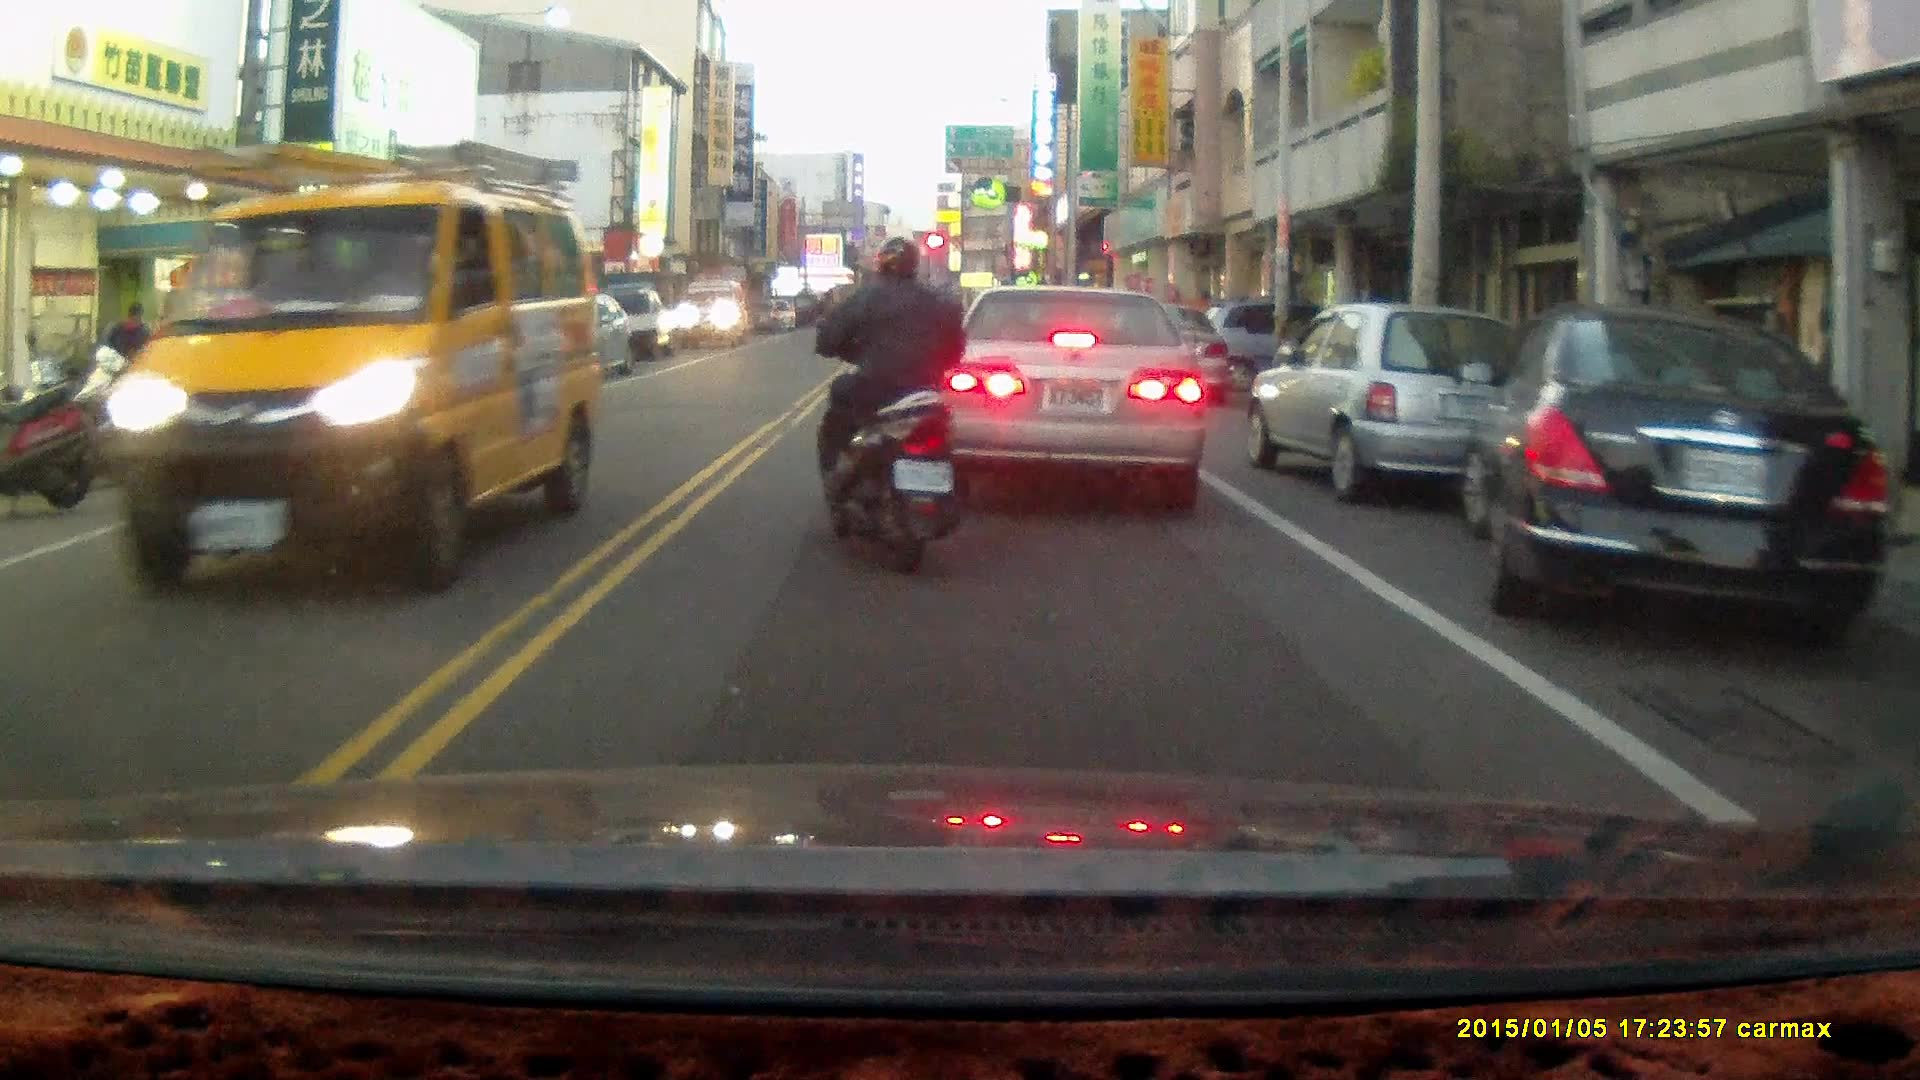pedestrian: (106, 299, 152, 404)
rider: (811, 231, 974, 574)
vehicle: (133, 128, 580, 633), (1452, 303, 1882, 659), (929, 281, 1210, 504), (1243, 300, 1518, 504), (679, 269, 756, 340)
